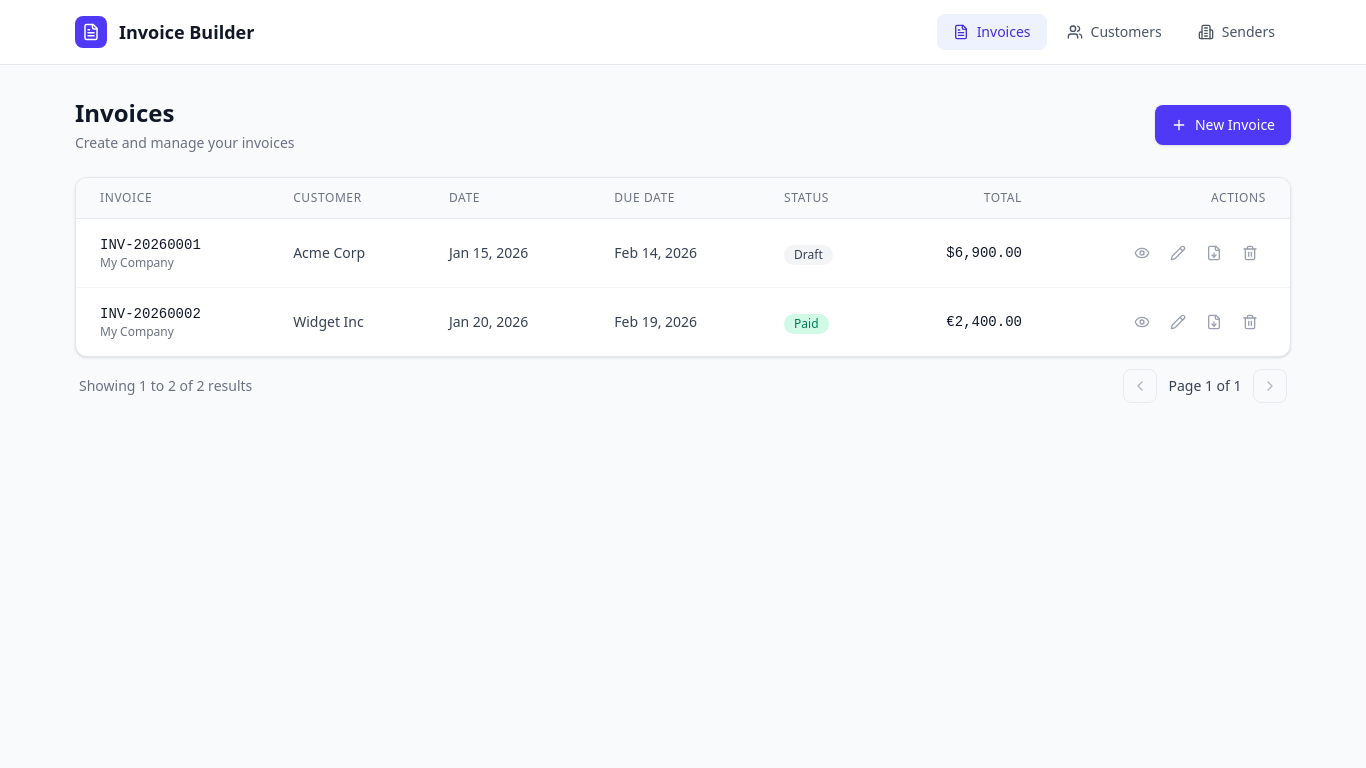
Scenario: Invoices › opens invoice view modal with full details
Click the button titled "View" in the row of "INV-20260001": (1142, 253) [1126, 237, 1158, 269]
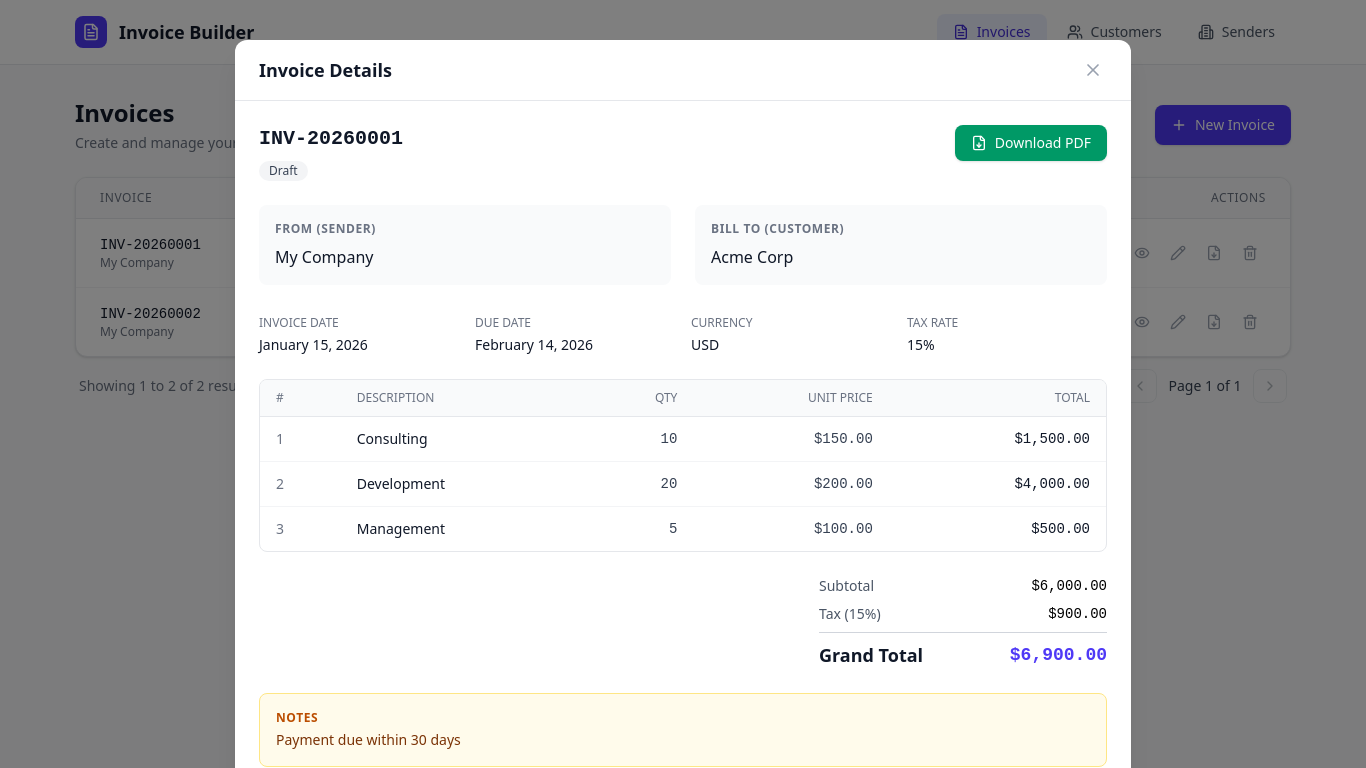
Result: the heading "Invoice Details" is shown at [259, 56, 392, 84]
Result: the text "Consulting" is shown at [341, 416, 584, 462]
Result: the text "Development" is shown at [341, 462, 584, 506]
